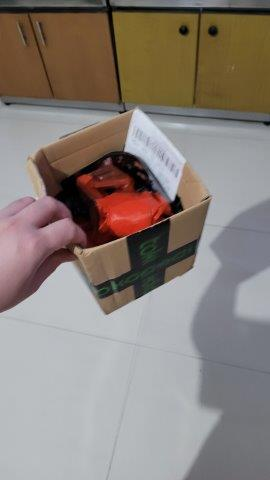kardus: (33, 107, 211, 316)
